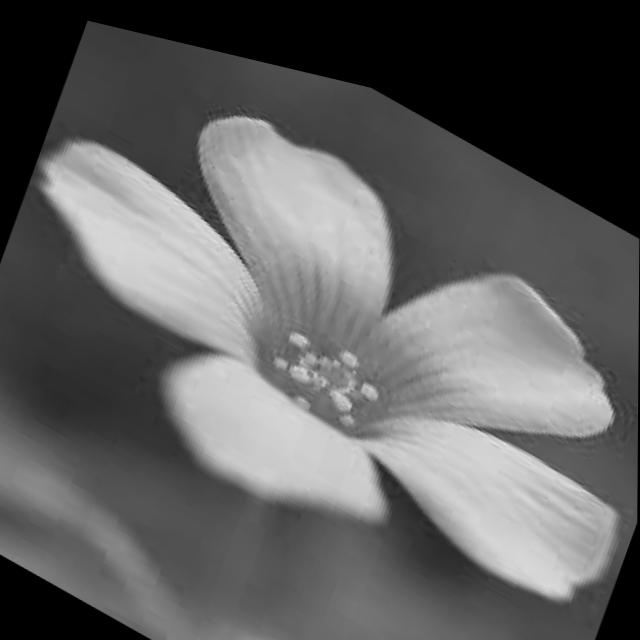Flower: (8, 2, 640, 627)
